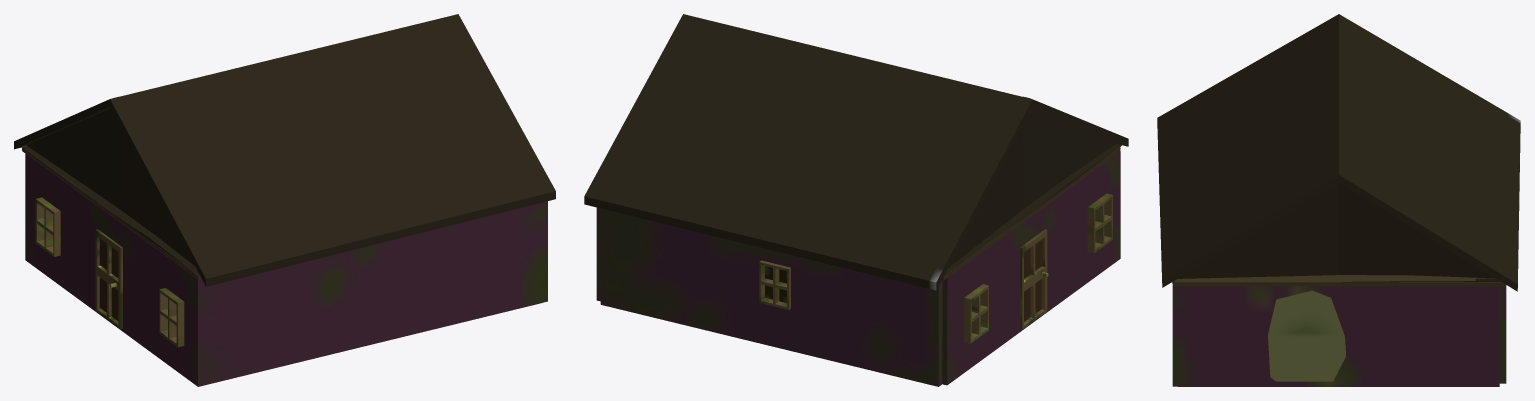
The model's file is Casa3.fbx.
3 renders of one model, left to right at view 1: azimuth 30°, elevation 25°; view 2: azimuth 150°, elevation 25°; view 3: azimuth 270°, elevation 25°, orthographic. The views are drawn at different scales.
Parts seen in each view (by area): view 1: Csa1, Cube.007; view 2: Csa1, Cube.007; view 3: Csa1, Cube.007.
Boxes of the visible parts, x1,y1,x2,y2 form: Csa1: [14, 14, 555, 286]; Cube.007: [25, 153, 547, 386]; Csa1: [584, 14, 1128, 290]; Cube.007: [596, 151, 1120, 386]; Csa1: [1157, 14, 1520, 291]; Cube.007: [1172, 285, 1506, 386].
Size of the model in its own units: 13175 by 7838 by 12176.
Materials: 1 (1 with a texture image).
